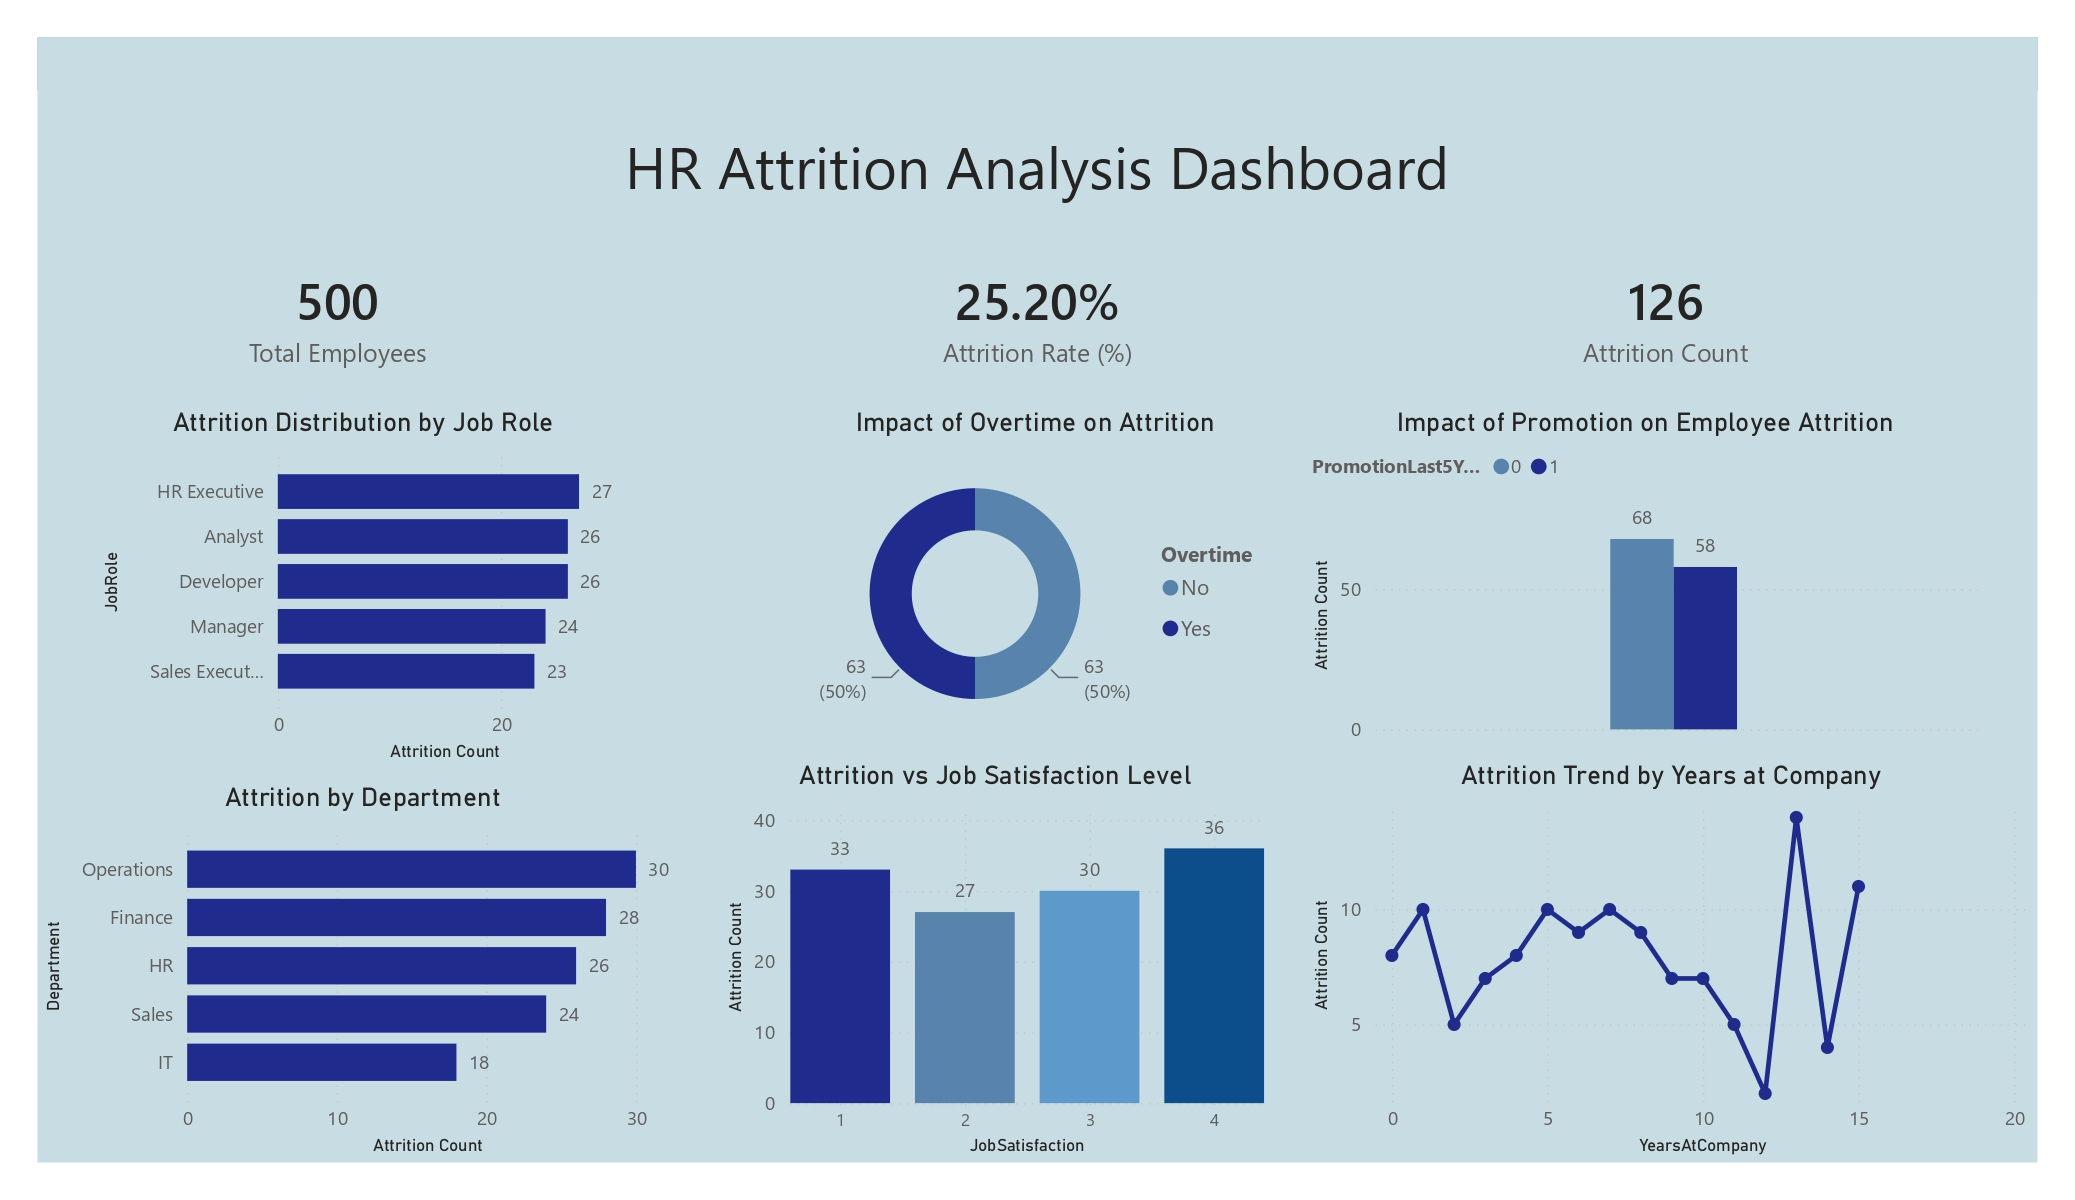

This screenshot's page, from the dashboard's own definition file:
{"tool":"powerbi","page":{"name":"Page 1","canvas":[1280,720],"ordinal":0},"visuals":[{"type":"cardVisual","fields":{"Data":["HR_Attrition_Data.Total Employees"]},"box":[86.4,118,212.7,123.5],"z":0},{"type":"cardVisual","fields":{"Data":["HR_Attrition_Data.Attrition Count"]},"box":[935.9,118,212.7,123.5],"z":1000},{"type":"cardVisual","fields":{"Data":["HR_Attrition_Data.Attrition Rate (%)"]},"box":[533.8,118,212.7,123.5],"z":2000},{"type":"clusteredBarChart","title":"Attrition by Department","fields":{"Y":["HR_Attrition_Data.Attrition Count"],"Category":["HR_Attrition_Data.Department"]},"box":[0,476.2,415.8,244.3],"z":3000},{"type":"barChart","title":"Attrition Distribution by Job Role","fields":{"Category":["HR_Attrition_Data.JobRole"],"Y":["HR_Attrition_Data.Attrition Count"]},"box":[37,236,343.1,231.9],"z":4000},{"type":"columnChart","title":"Attrition vs Job Satisfaction Level","fields":{"Y":["HR_Attrition_Data.Attrition Count"],"Category":["HR_Attrition_Data.JobSatisfaction"]},"box":[436.4,462.4,354,258],"z":5000},{"type":"donutChart","title":"Impact of Overtime on Attrition","fields":{"Category":["HR_Attrition_Data.Overtime"],"Y":["HR_Attrition_Data.Attrition Count"]},"box":[476.2,236,325.2,220.9],"z":6000},{"type":"lineChart","title":"Attrition Trend by Years at Company","fields":{"Y":["HR_Attrition_Data.Attrition Count"],"Category":["HR_Attrition_Data.YearsAtCompany"]},"box":[811,462.4,469.3,258],"z":7000},{"type":"textbox","box":[0,52.1,1280.3,65.9],"z":8000},{"type":"clusteredColumnChart","title":"Impact of Promotion on Employee Attrition","fields":{"Y":["HR_Attrition_Data.Attrition Count"],"Series":["HR_Attrition_Data.PromotionLast5Years"]},"box":[811,236,436.4,220.9],"z":9000}]}

Visuals, with their boxes on the page's 1280x720 design canvas (x1, y1, x2, y2). These are canvas units, not pixel positions in the 2075x1200 screenshot, which may show the page scaled, cropped or inside an application window:
cardVisual - HR_Attrition_Data.Total Employees: <region>86, 118, 299, 242</region>
cardVisual - HR_Attrition_Data.Attrition Count: <region>936, 118, 1149, 242</region>
cardVisual - HR_Attrition_Data.Attrition Rate (%): <region>534, 118, 746, 242</region>
"Attrition by Department" clusteredBarChart: <region>0, 476, 416, 720</region>
"Attrition Distribution by Job Role" barChart: <region>37, 236, 380, 468</region>
"Attrition vs Job Satisfaction Level" columnChart: <region>436, 462, 790, 720</region>
"Impact of Overtime on Attrition" donutChart: <region>476, 236, 801, 457</region>
"Attrition Trend by Years at Company" lineChart: <region>811, 462, 1280, 720</region>
textbox: <region>0, 52, 1280, 118</region>
"Impact of Promotion on Employee Attrition" clusteredColumnChart: <region>811, 236, 1247, 457</region>
